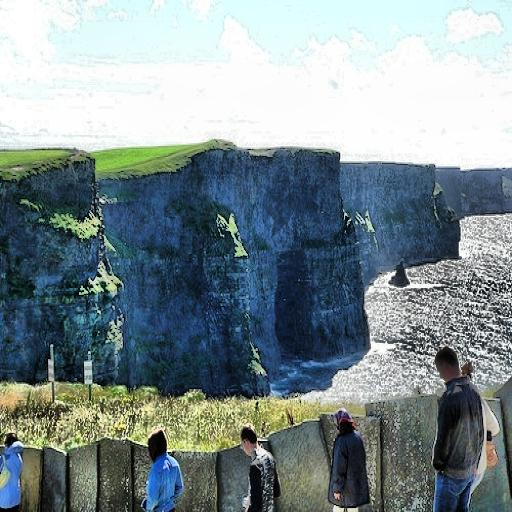person: (433, 347, 489, 509), (142, 431, 181, 511), (330, 445, 368, 511), (245, 431, 274, 509), (0, 433, 22, 511)
